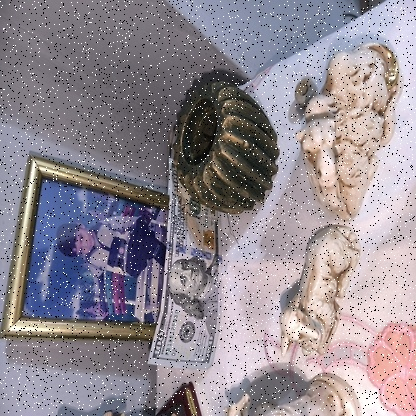one_hundred-front: (148, 159, 227, 368)
